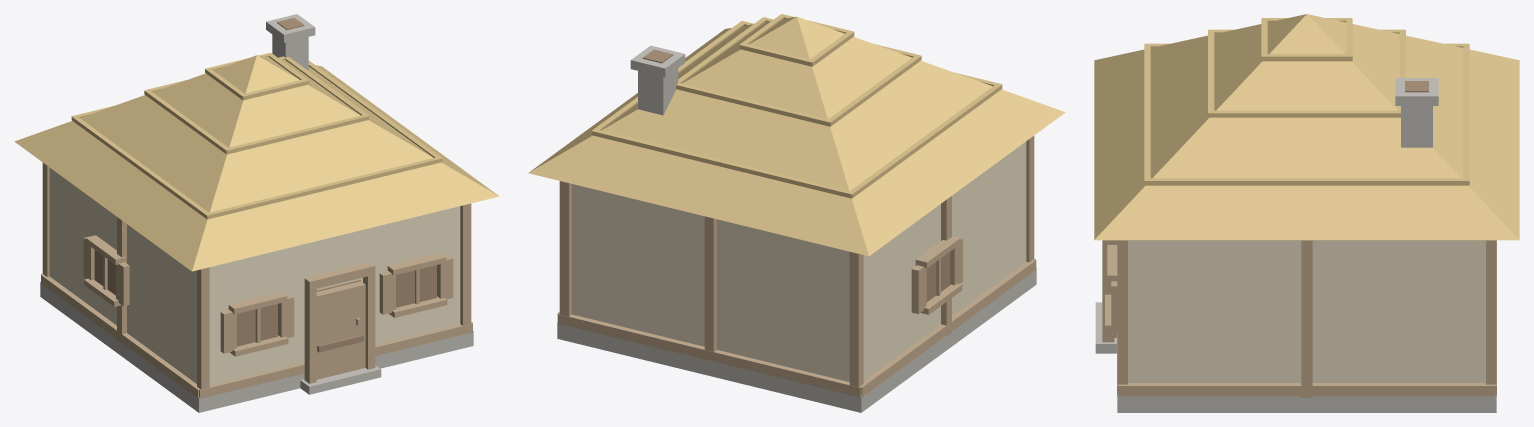
Rendered from house-hip-roof.glb.
3 renders of one model, left to right at view 1: azimuth 30°, elevation 25°; view 2: azimuth 150°, elevation 25°; view 3: azimuth 270°, elevation 25°, orthographic. The views are drawn at different scales.
Visible parts, largest first — view 1: house-hip-roof_roof, house-hip-roof_plaster, house-hip-roof_wood, house-hip-roof_stone, house-hip-roof_door, house-hip-roof_window; view 2: house-hip-roof_roof, house-hip-roof_plaster, house-hip-roof_wood, house-hip-roof_stone, house-hip-roof_window; view 3: house-hip-roof_roof, house-hip-roof_plaster, house-hip-roof_wood, house-hip-roof_stone.
Part boxes in pixels (x1,y1,x2,y2): house-hip-roof_roof: (14,53,499,271); house-hip-roof_plaster: (49,168,460,384); house-hip-roof_wood: (41,162,472,398); house-hip-roof_stone: (40,14,473,412); house-hip-roof_door: (316,281,365,379); house-hip-roof_window: (94,17,436,352); house-hip-roof_roof: (528,14,1065,256); house-hip-roof_plaster: (572,141,1026,381); house-hip-roof_wood: (557,136,1036,397); house-hip-roof_stone: (557,45,1036,412); house-hip-roof_window: (642,49,950,301); house-hip-roof_roof: (1094,14,1519,240); house-hip-roof_plaster: (1128,240,1485,382); house-hip-roof_wood: (1102,240,1496,397); house-hip-roof_stone: (1095,78,1496,412).
Bounding box in the file's own units: 2 × 1.66 × 2.
